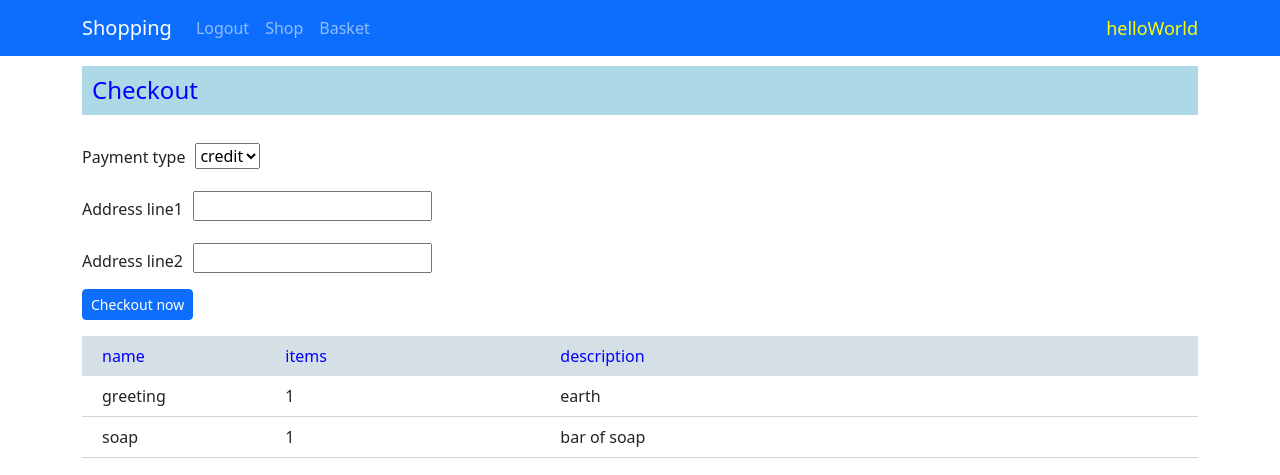
Test: logged in so checkout
Expected: the text "bar of soap" is shown, [560, 426, 645, 448]
Expected: the text "earth" is shown, [560, 385, 601, 407]
Type "80" into the field with test id "addressLine1" at (312, 206), box [193, 191, 432, 221]
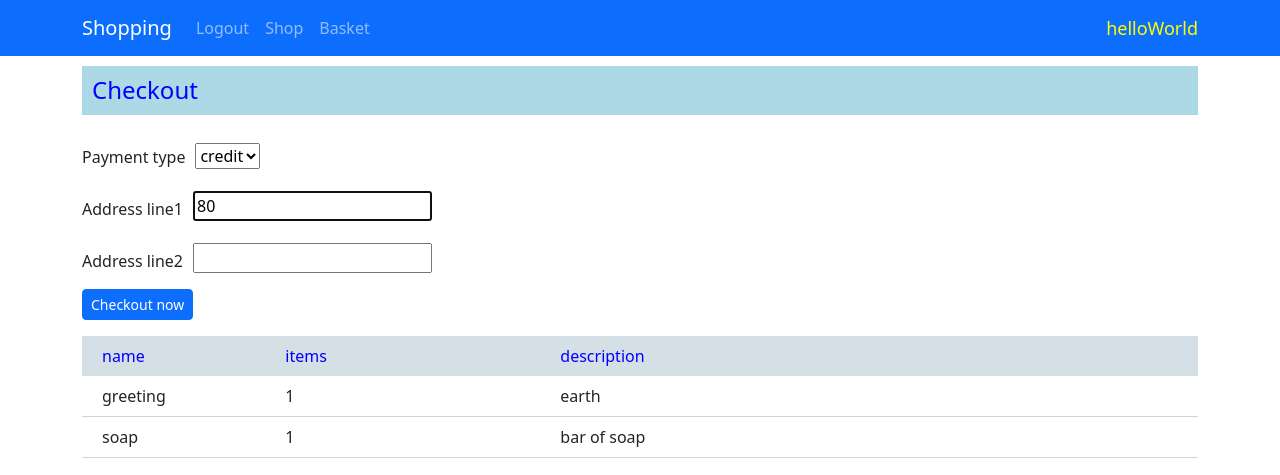
Type "AL1" into the field with test id "addressLine2" at (312, 258), box [193, 243, 432, 273]
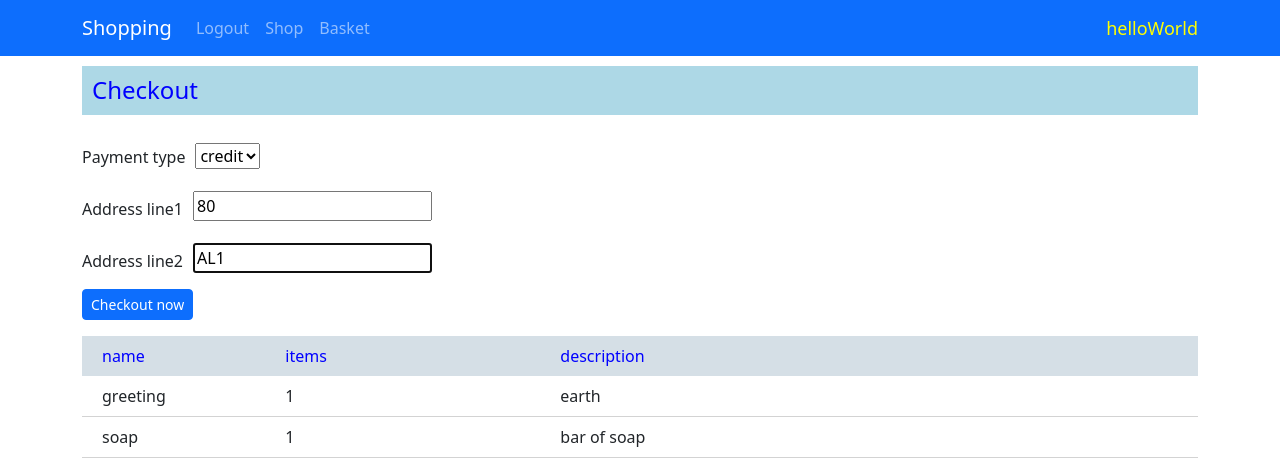
Click the button with test id "submit" at (138, 304), box [82, 289, 193, 320]
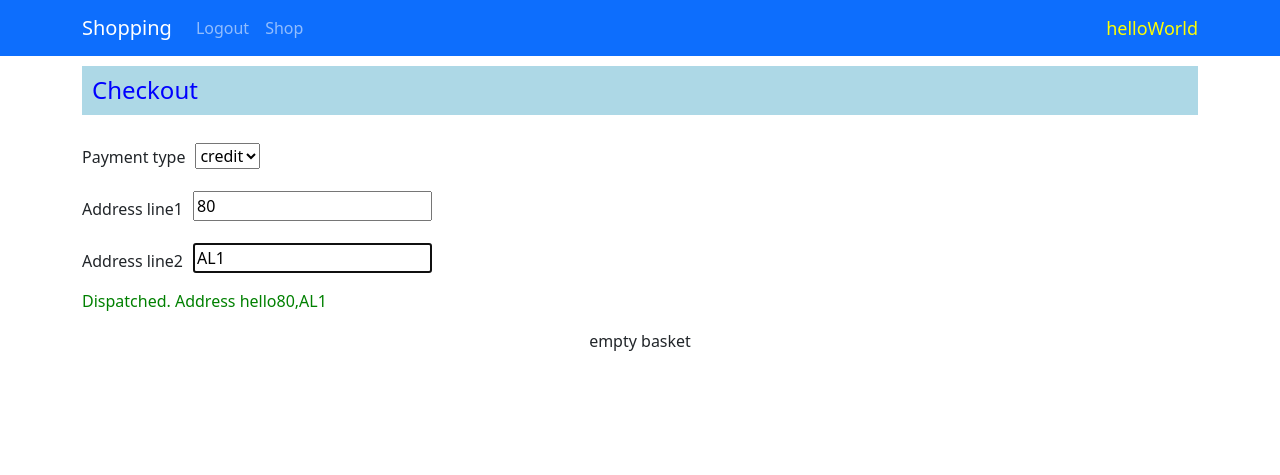
Result: the text "Dispatched. Address hello80,AL1" is shown at [82, 290, 327, 312]
